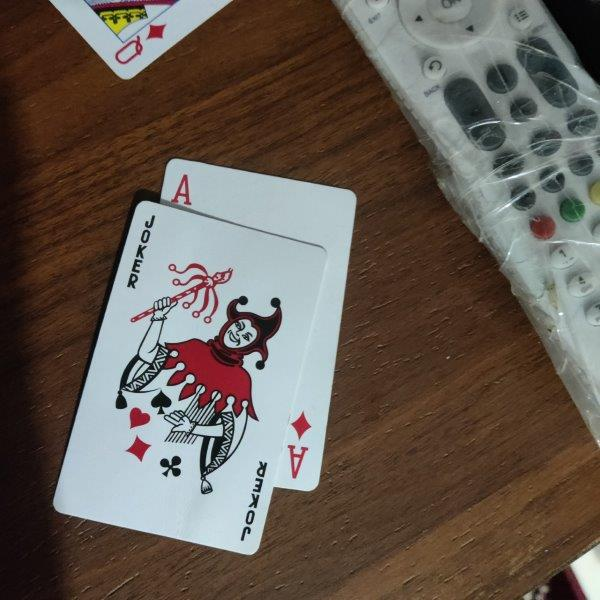Ace of Diamonds: (158, 157, 359, 493)
Joker: (53, 200, 324, 557)
Queen of Diamonds: (53, 1, 232, 79)
